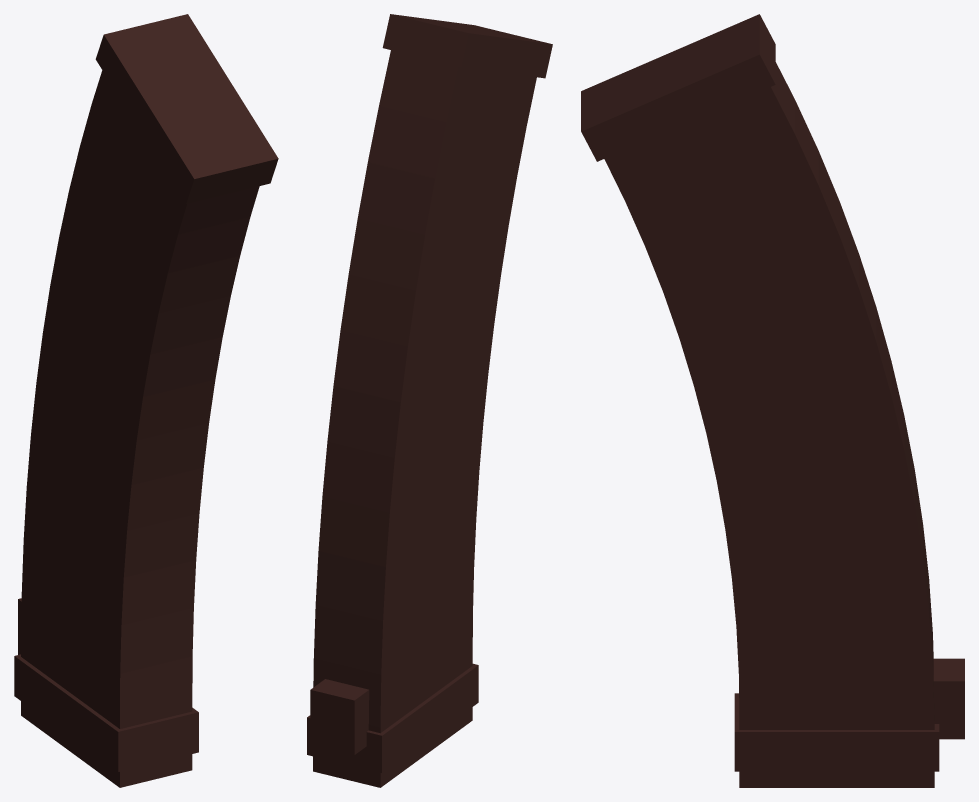
The model's file is ak_mag_45.glb.
3 renders of one model, left to right at view 1: azimuth 30°, elevation 25°; view 2: azimuth 150°, elevation 25°; view 3: azimuth 270°, elevation 25°, orthographic. The views are drawn at different scales.
Visible parts, largest first — view 1: mag_body, mag_floor, mag_collar; view 2: mag_body, mag_floor, mag_collar, mag_catch_lug; view 3: mag_body, mag_floor, mag_collar, mag_catch_lug.
Boxes of the visible parts, x1,y1,x2,y2 form: mag_body: (21, 70, 259, 787); mag_floor: (95, 14, 278, 203); mag_collar: (14, 654, 198, 771); mag_body: (313, 50, 536, 787); mag_floor: (382, 14, 552, 78); mag_collar: (307, 663, 478, 772); mag_catch_lug: (310, 679, 369, 755); mag_body: (604, 62, 934, 787); mag_floor: (581, 14, 775, 161); mag_collar: (734, 693, 939, 771); mag_catch_lug: (933, 658, 964, 739).
Bounding box in the file's own units: 0.0285 × 0.2415 × 0.1141.
